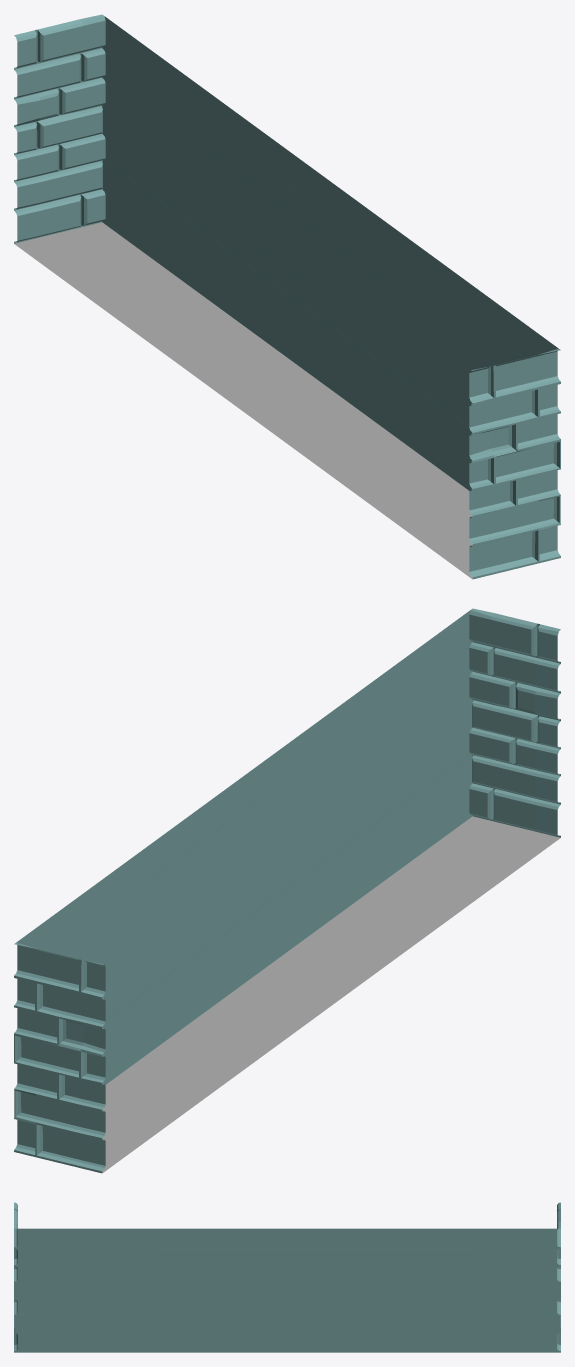
File: sm_tile_waterfalltile_nowall.fbx
3 views of the same model, one above another, from view 1: azimuth 30°, elevation 25°; view 2: azimuth 150°, elevation 25°; view 3: azimuth 270°, elevation 25° (orthographic). The views are drawn at different scales.
Parts seen in each view (by area): view 1: WitchGameWaterfallTiles_2_27_20:Waterfall_Landing; view 2: WitchGameWaterfallTiles_2_27_20:Waterfall_Landing; view 3: WitchGameWaterfallTiles_2_27_20:Waterfall_Landing.
Part boxes in pixels (bbox=[...]): WitchGameWaterfallTiles_2_27_20:Waterfall_Landing: bbox=[14, 14, 560, 579]; WitchGameWaterfallTiles_2_27_20:Waterfall_Landing: bbox=[14, 608, 560, 1173]; WitchGameWaterfallTiles_2_27_20:Waterfall_Landing: bbox=[14, 1202, 560, 1352].
Size of the model in its own units: 0.8906 by 2.01 by 8.
